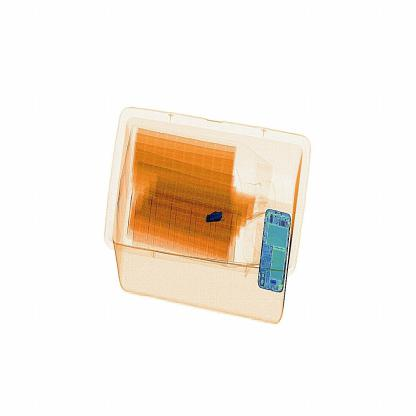knife: (200, 206, 223, 224)
